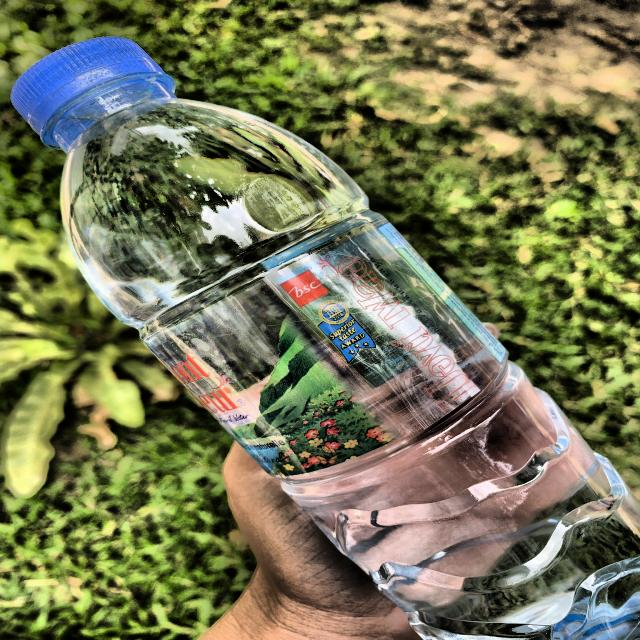Bottles: (4, 10, 640, 640)
